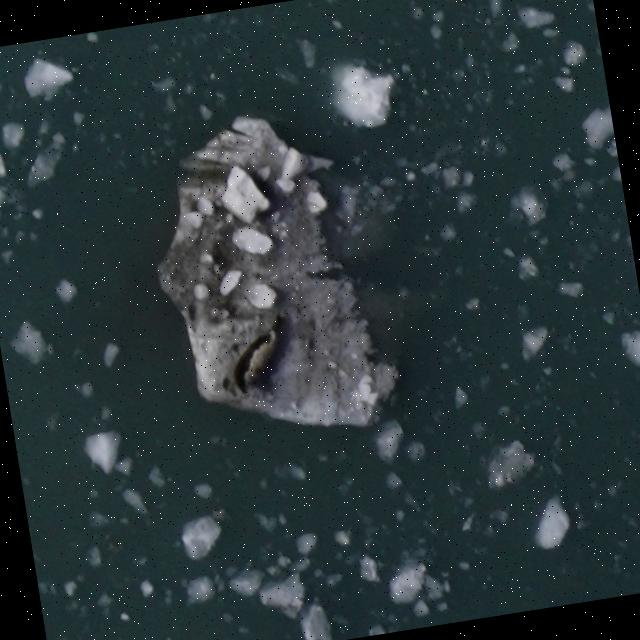seal: (222, 309, 303, 401)
